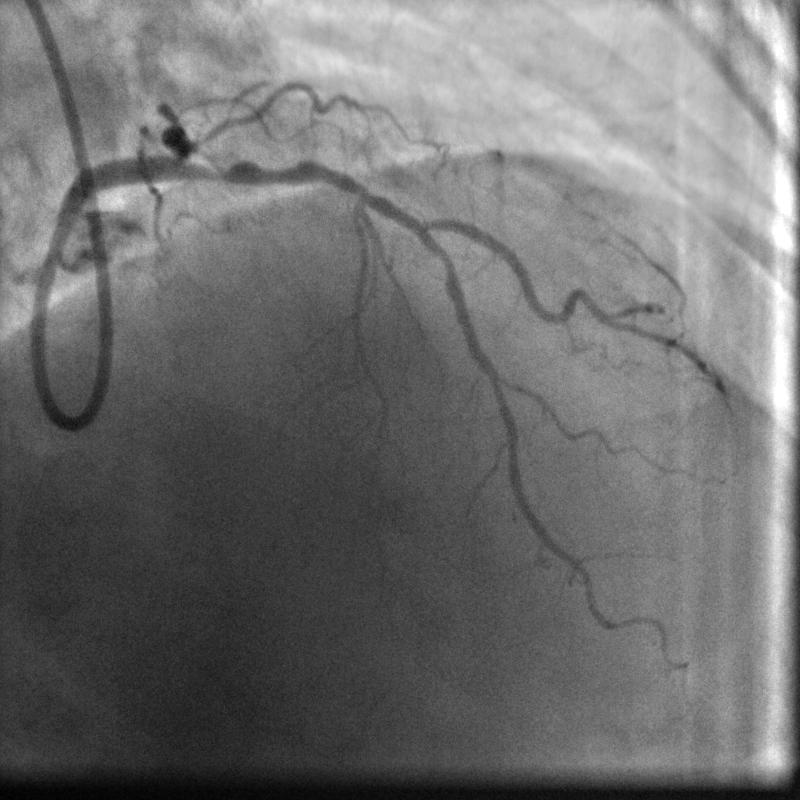Stenosis: (202, 147, 310, 184)
